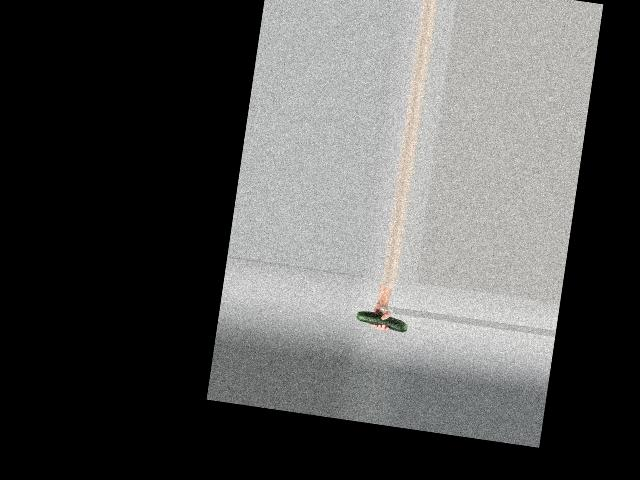cucumber: (356, 310, 409, 333)
